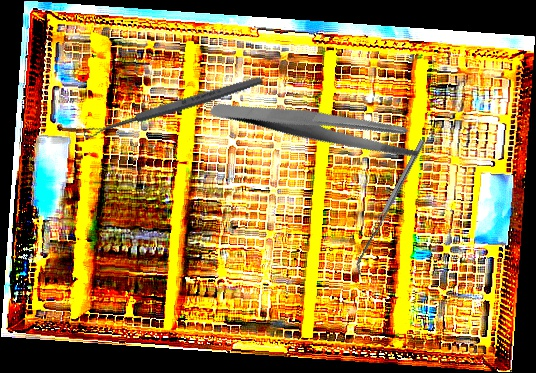Dressing Forceps: (208, 50, 427, 202)
Spatula Surgical: (350, 139, 431, 276)
Surgical Spoon: (82, 74, 264, 140)
